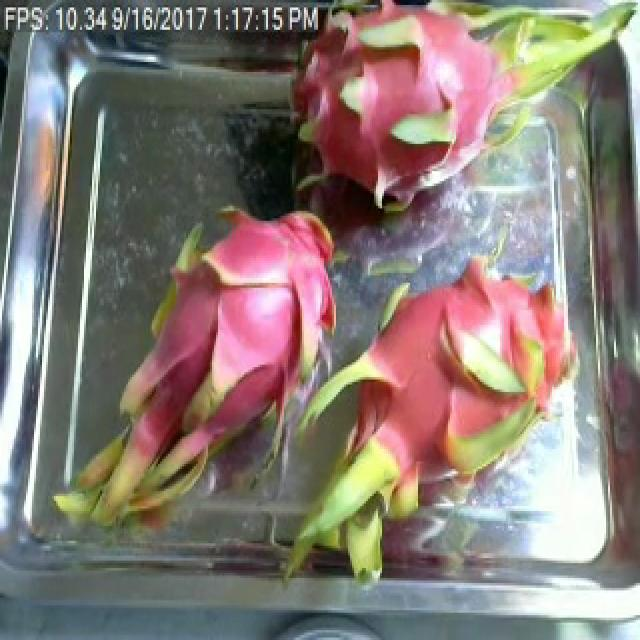Fruit: (366, 117, 468, 223)
